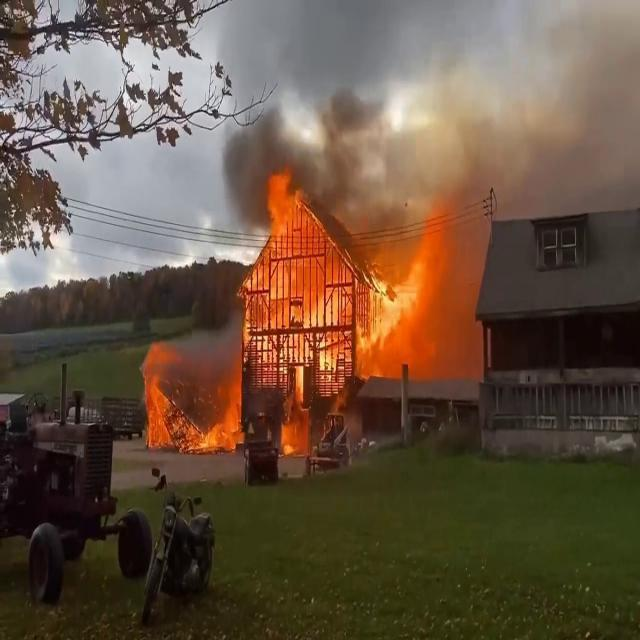Fire: (229, 181, 452, 395), (139, 344, 243, 454)
Smoke: (452, 54, 640, 218), (220, 84, 383, 248)
